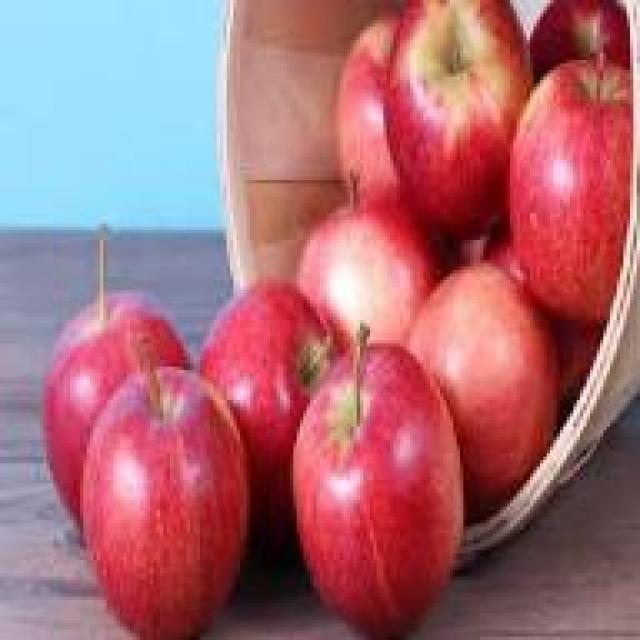apple: (300, 353, 463, 617), (193, 276, 357, 526), (83, 366, 240, 616), (383, 13, 540, 230), (37, 296, 183, 526), (513, 60, 637, 330), (293, 203, 450, 407), (410, 270, 557, 477)
